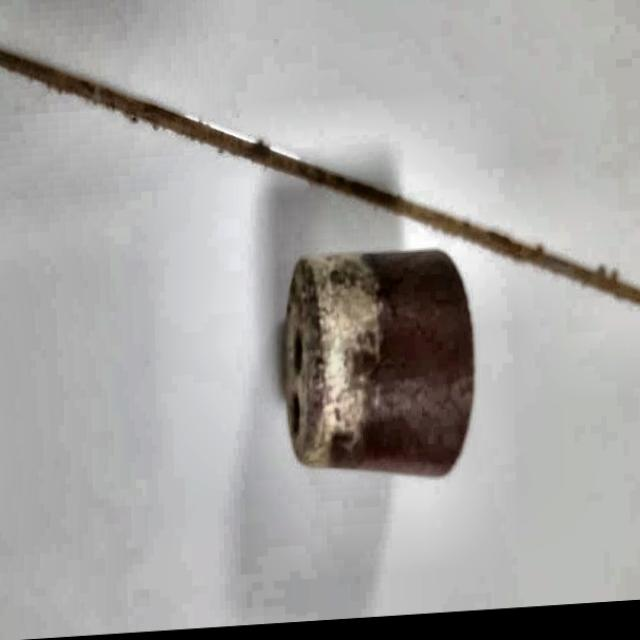Stopper: (276, 239, 480, 489)
